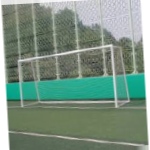goals: (17, 42, 131, 115)
